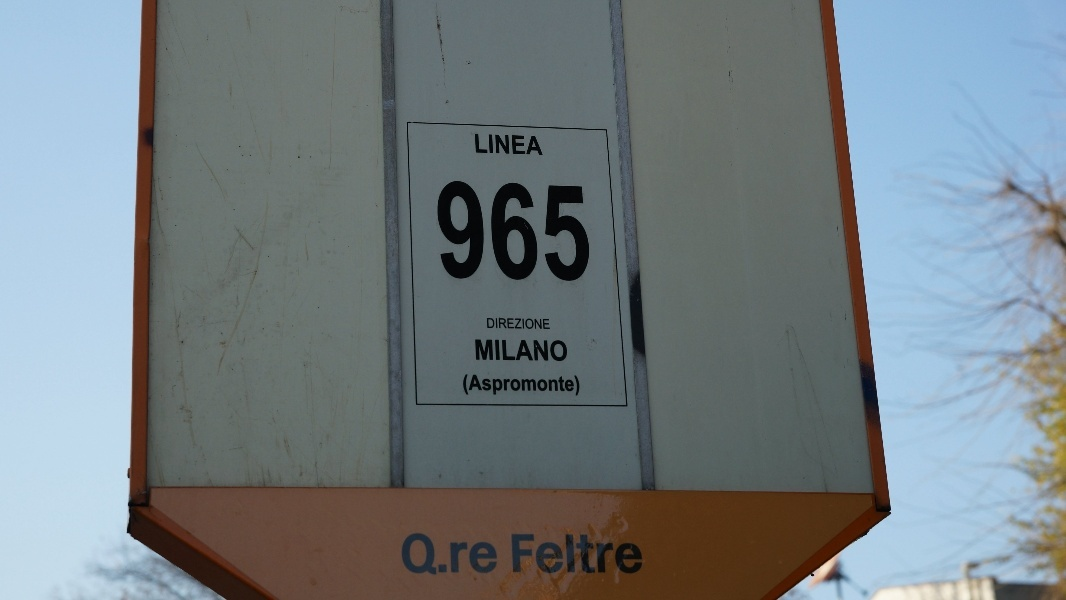text: (449, 179, 464, 283), (465, 179, 480, 283), (481, 179, 496, 283), (497, 179, 512, 283), (513, 179, 528, 283), (529, 179, 544, 283), (545, 179, 560, 283), (561, 179, 576, 283), (577, 179, 592, 283), (435, 179, 448, 283), (417, 533, 432, 575), (433, 533, 448, 575), (449, 533, 464, 575), (465, 533, 480, 575), (481, 533, 496, 575), (513, 534, 528, 575), (529, 534, 544, 575), (545, 534, 560, 575), (561, 534, 576, 575), (577, 534, 592, 575), (593, 534, 608, 575), (609, 534, 624, 575), (625, 534, 640, 575), (402, 533, 416, 575), (481, 339, 496, 362), (497, 339, 512, 362), (513, 339, 528, 362), (529, 339, 544, 362), (545, 339, 560, 362), (465, 374, 480, 397), (481, 374, 496, 397), (497, 374, 512, 397), (513, 374, 528, 397), (529, 374, 544, 397), (545, 374, 560, 397), (561, 374, 576, 397), (481, 134, 496, 156), (497, 134, 512, 156), (513, 134, 528, 156), (529, 134, 544, 156), (593, 179, 595, 283), (497, 318, 512, 330), (513, 318, 528, 330), (529, 318, 544, 330), (561, 339, 567, 362), (641, 534, 644, 575), (475, 134, 480, 156), (487, 318, 496, 330), (476, 339, 480, 362), (545, 318, 551, 330), (577, 374, 580, 397), (497, 533, 498, 575)
